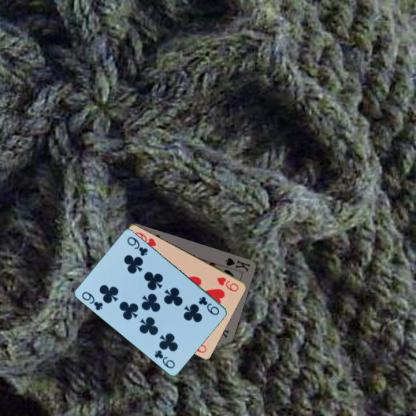9c: (79, 289, 105, 311), (196, 294, 221, 316)
9h: (214, 274, 240, 293)
Ks: (223, 255, 251, 273)
